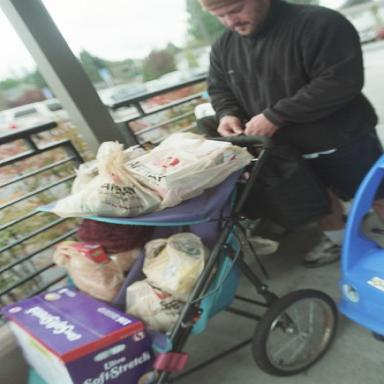plasticbag: (46, 128, 255, 218), (50, 232, 235, 328)
